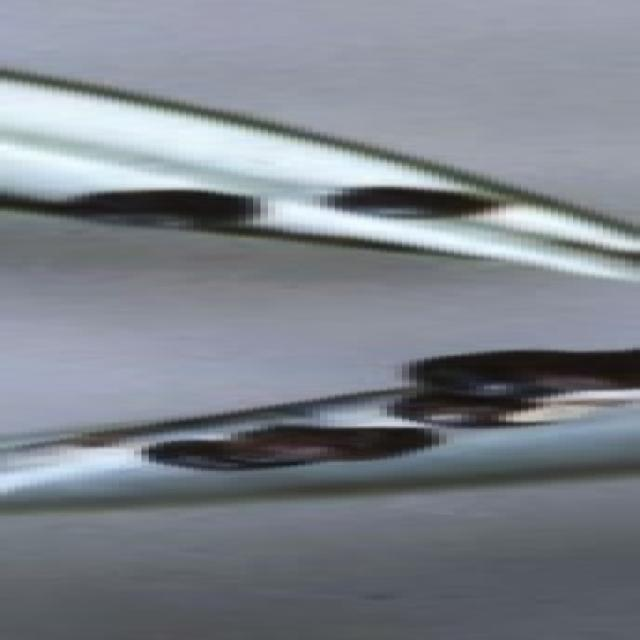Black Scale: (394, 348, 633, 425), (141, 425, 439, 470), (74, 190, 246, 230), (320, 187, 506, 220)
